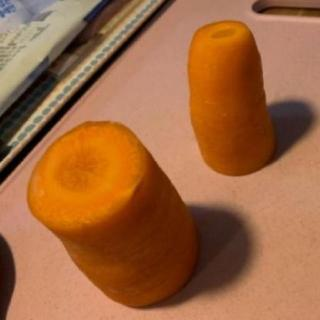carrot: (22, 117, 202, 311), (179, 17, 281, 179)
